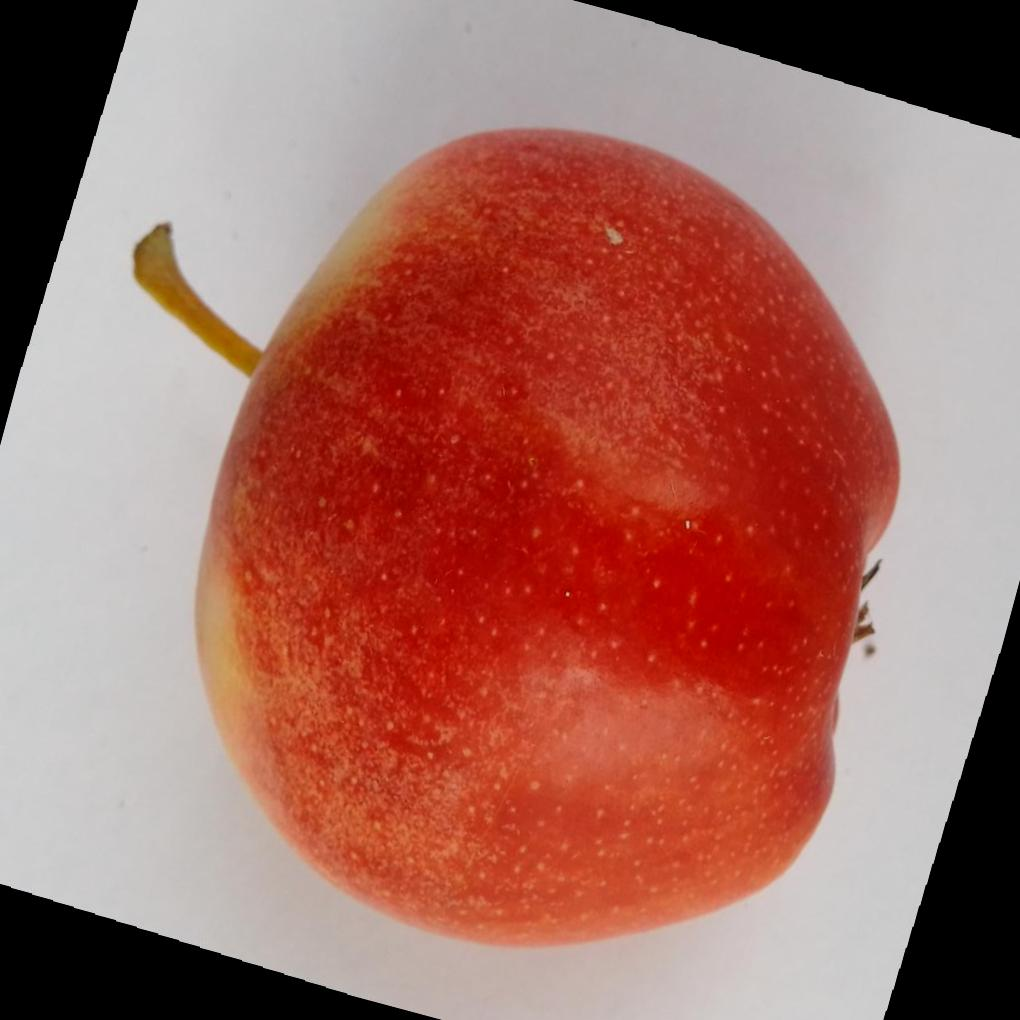FreshGuava: (194, 126, 903, 949)
